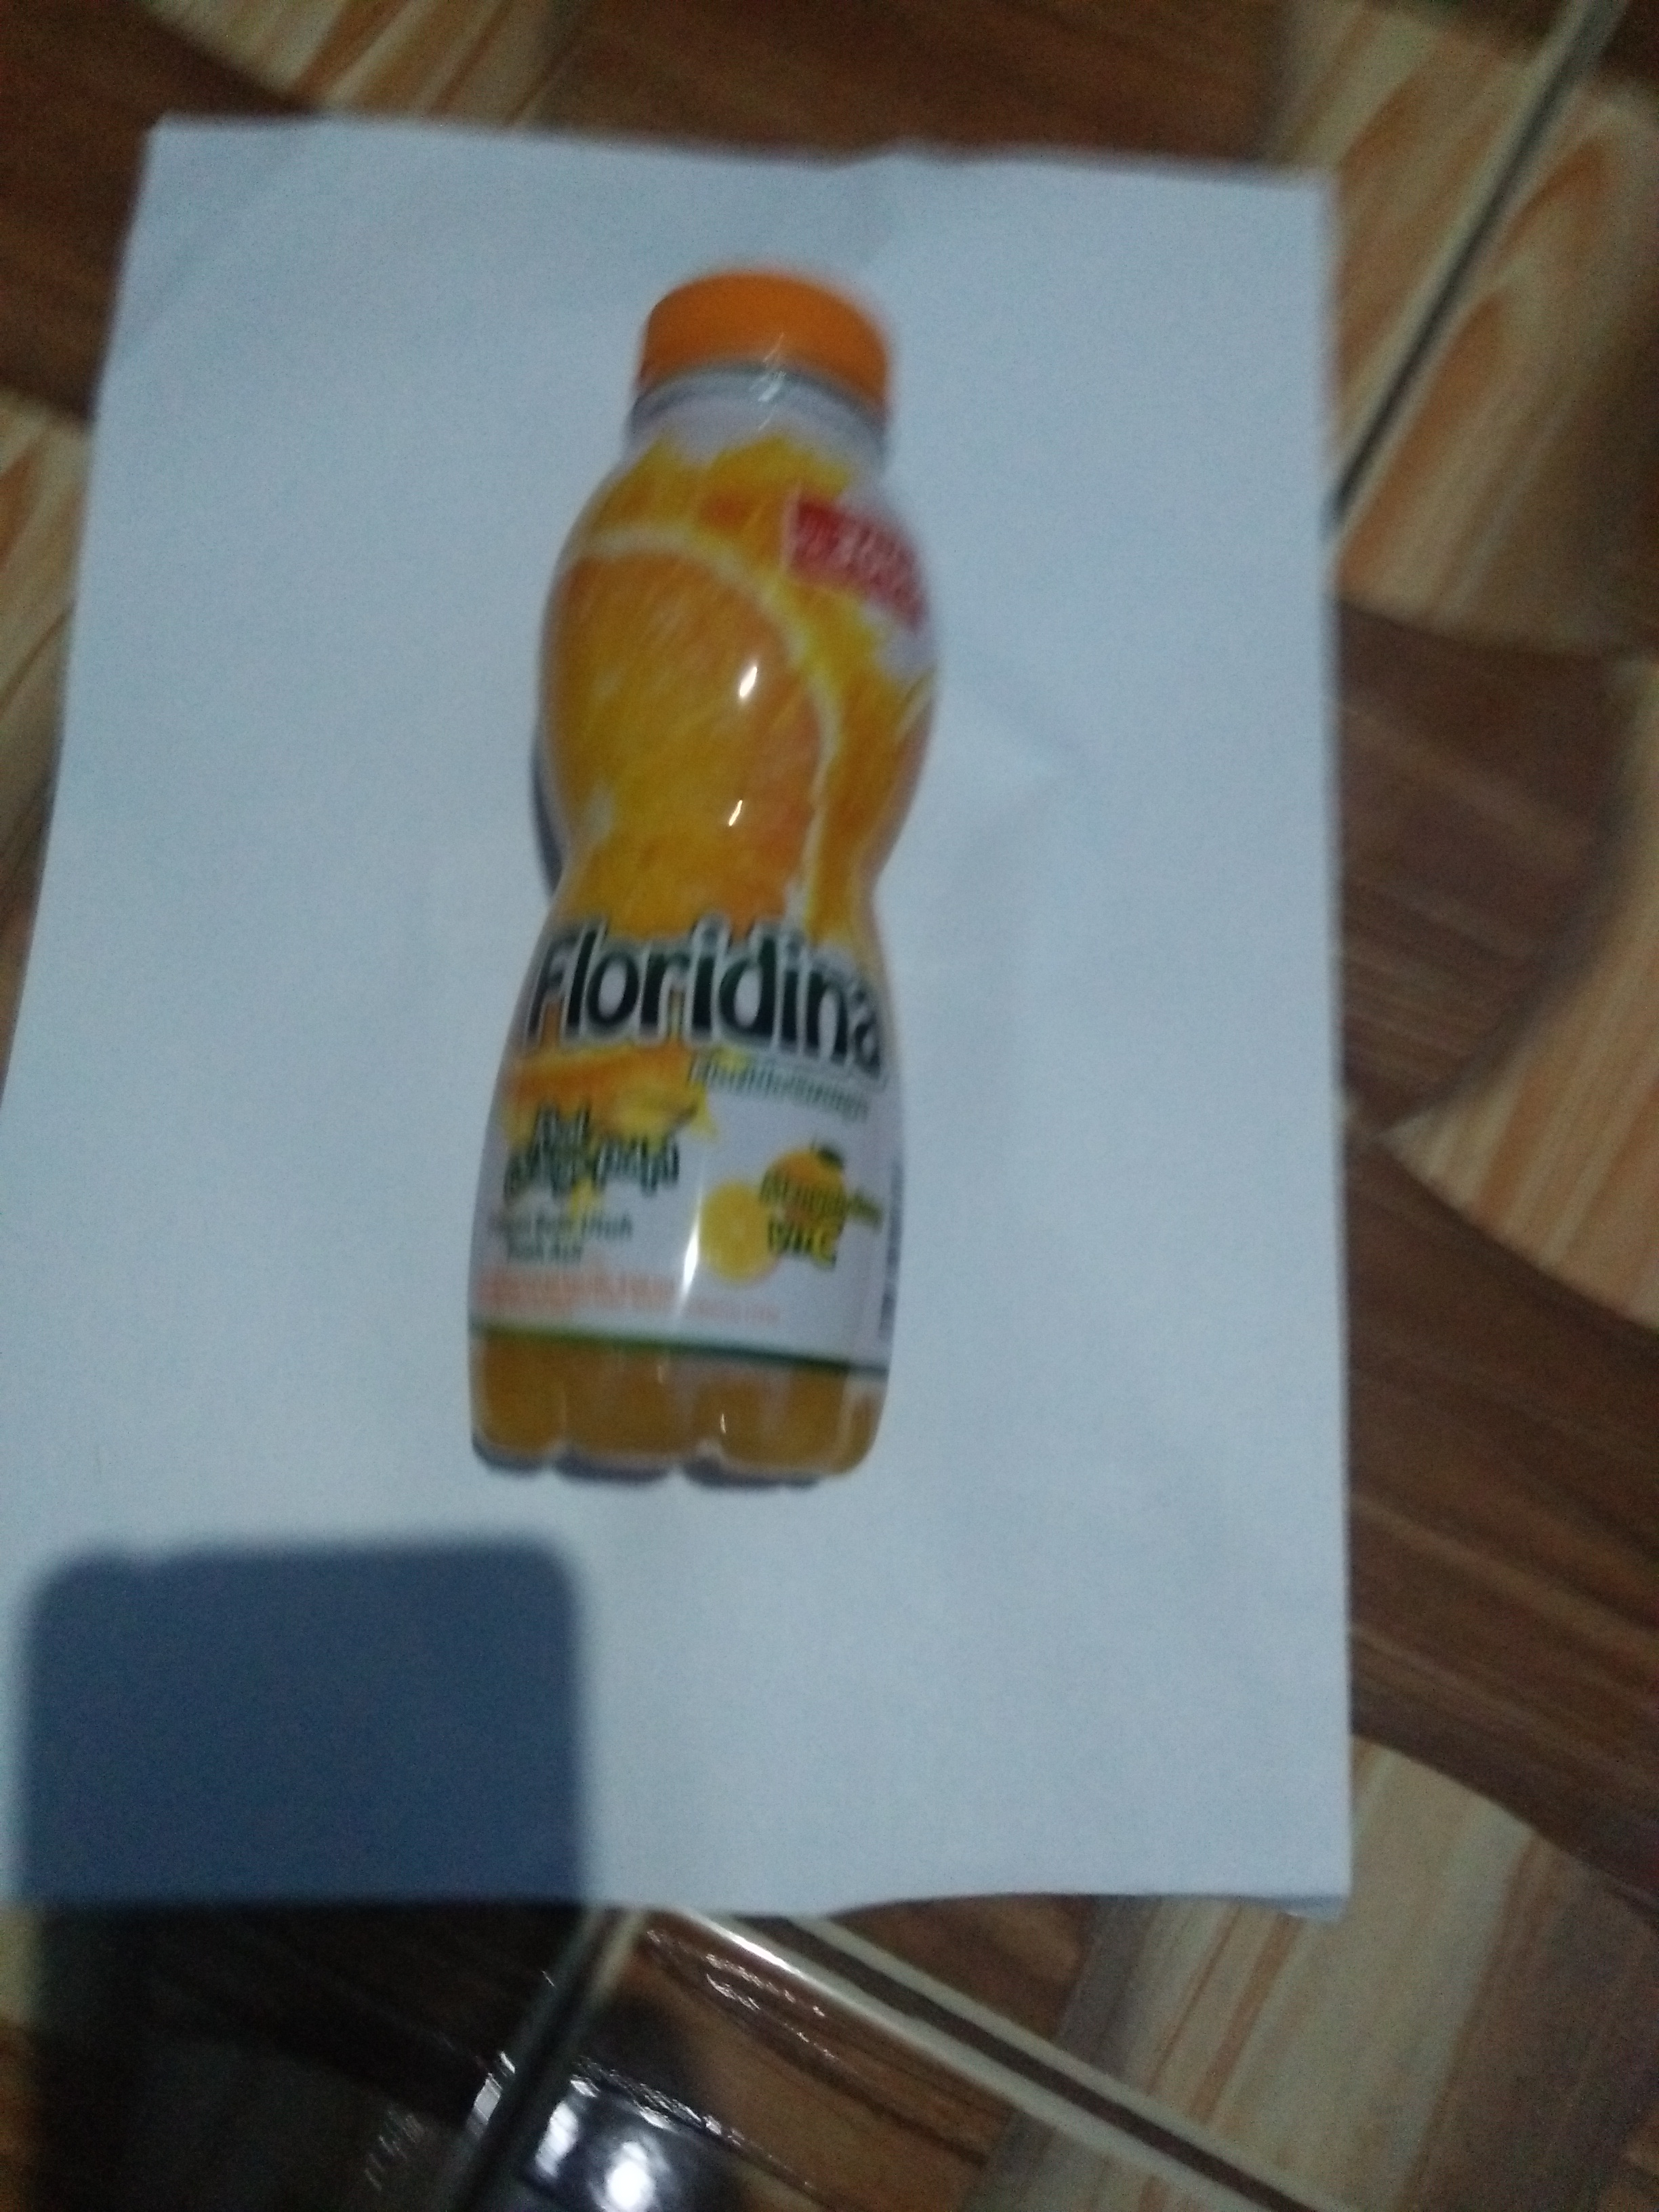Floridina: (453, 244, 960, 1515)
